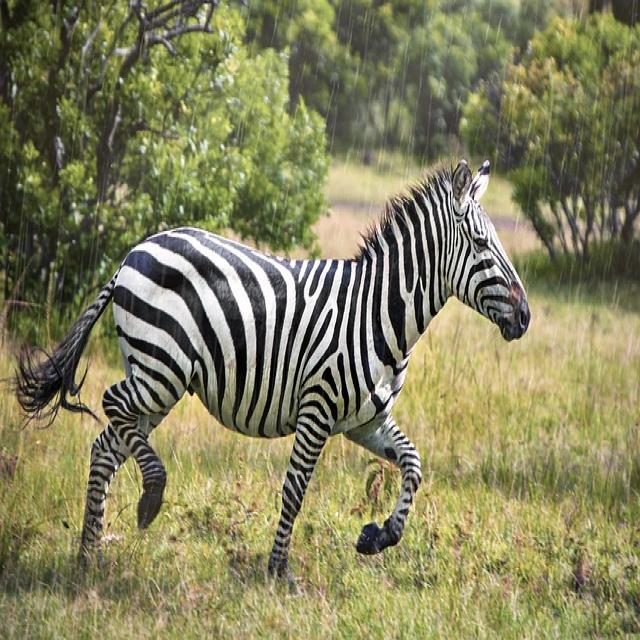Herbivorous: (17, 160, 532, 580)
